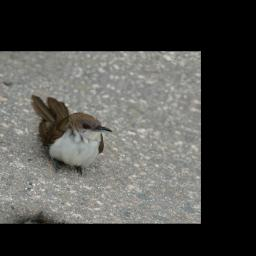Cuckoo: (8, 91, 119, 185)
